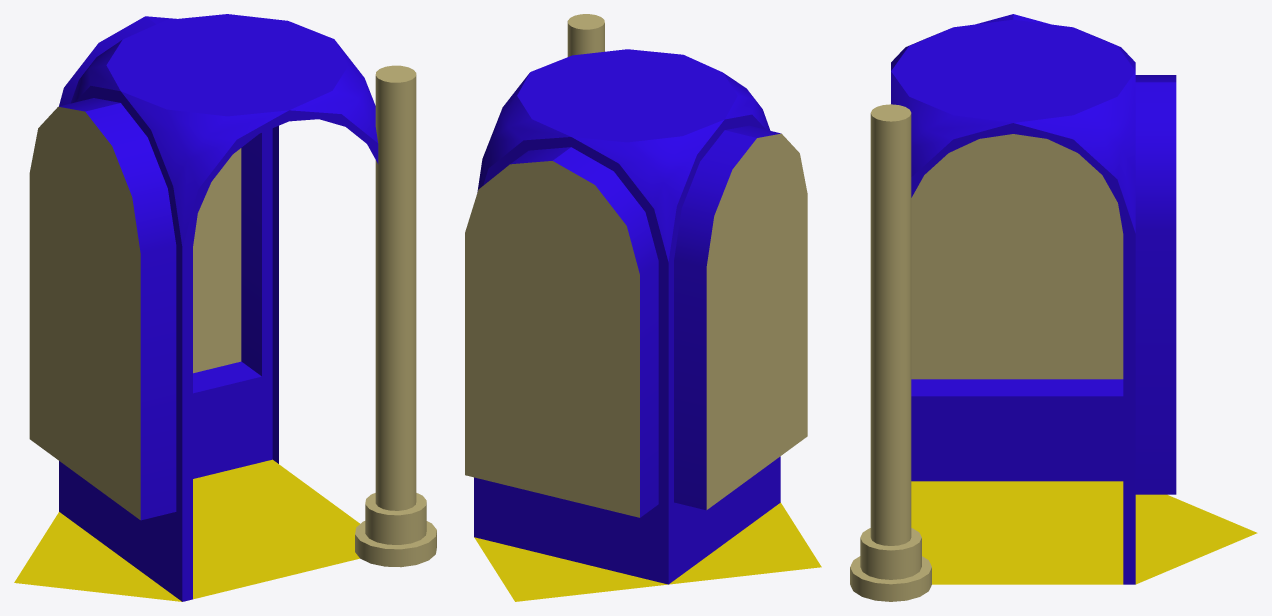
Rendered from RightTurnV1.fbx.
3 renders of one model, left to right at view 1: azimuth 30°, elevation 25°; view 2: azimuth 150°, elevation 25°; view 3: azimuth 270°, elevation 25°, orthographic. The views are drawn at different scales.
Visible parts, largest first — view 1: RightTurnV1; view 2: RightTurnV1; view 3: RightTurnV1.
Boxes of the visible parts, x1=… form: RightTurnV1: x1=14, y1=14, x2=436, y2=601; RightTurnV1: x1=465, y1=14, x2=821, y2=601; RightTurnV1: x1=850, y1=14, x2=1257, y2=601.
Bounding box in the file's own units: 200 × 255 × 200.
